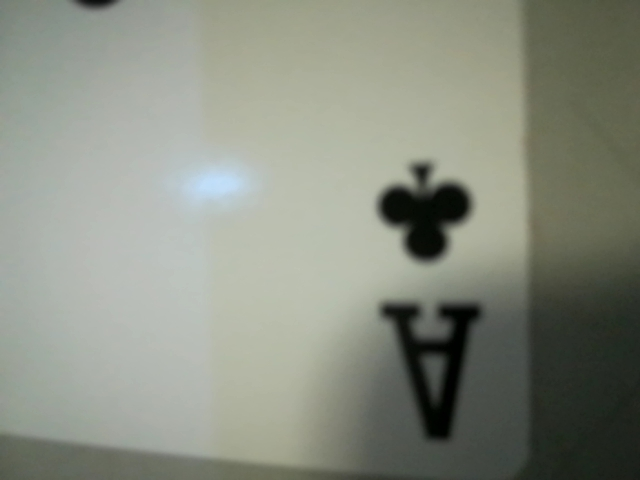mh a: (337, 145, 522, 454)
